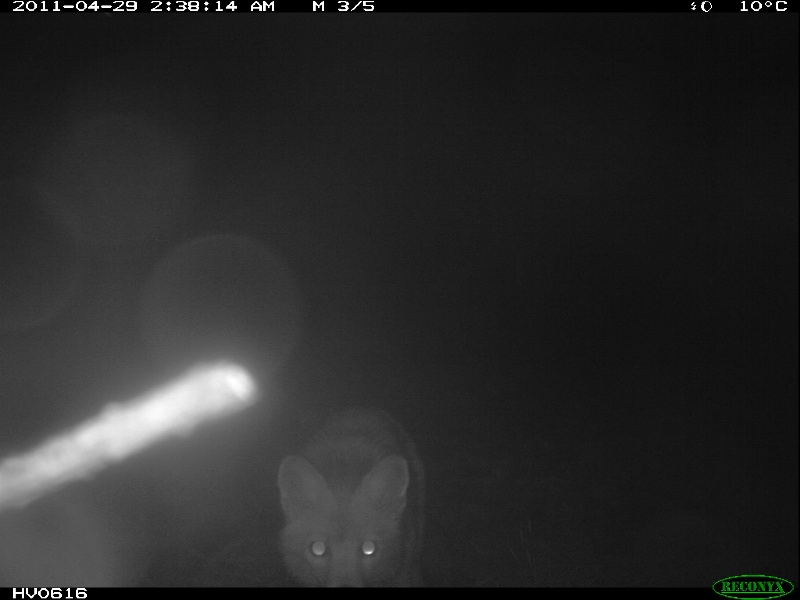fox: (266, 380, 434, 584)
